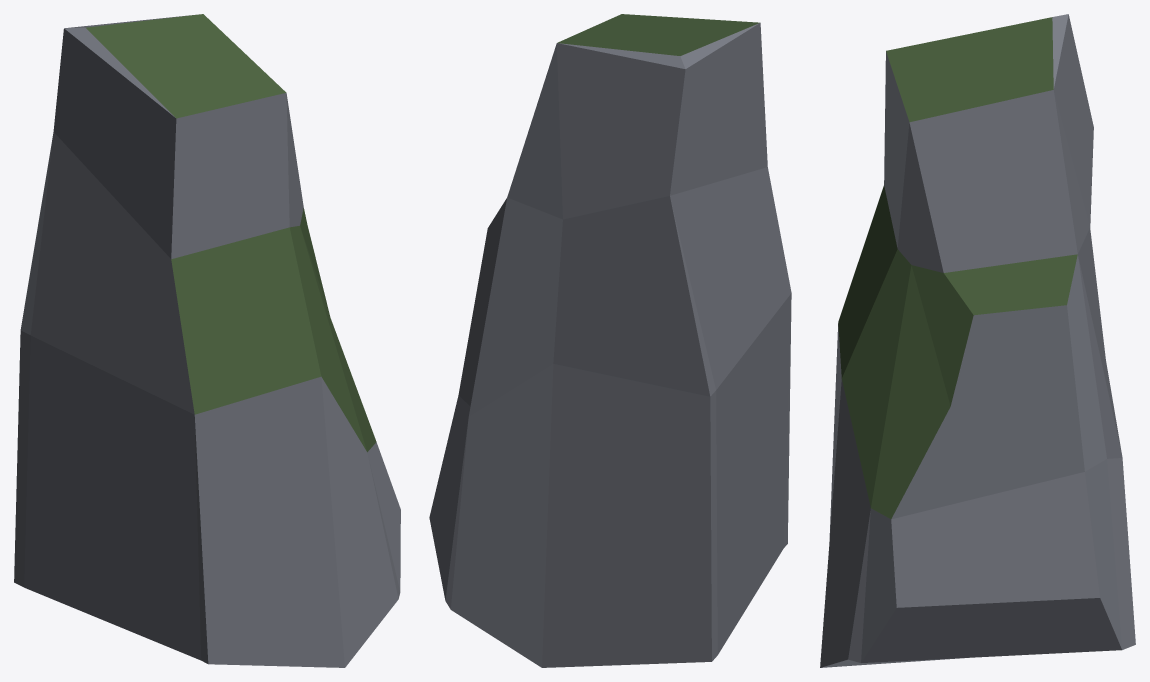
Rendered from Rock_Moss_1.gltf.
3 renders of one model, left to right at view 1: azimuth 30°, elevation 25°; view 2: azimuth 150°, elevation 25°; view 3: azimuth 270°, elevation 25°, orthographic. The views are drawn at different scales.
Visible parts, largest first — view 1: Rock_Moss_1; view 2: Rock_Moss_1; view 3: Rock_Moss_1.
Part boxes in pixels (x1,y1,x2,y2): Rock_Moss_1: (14, 14, 400, 667); Rock_Moss_1: (429, 14, 791, 667); Rock_Moss_1: (820, 14, 1135, 667).
Bounding box in the file's own units: 0.4853 × 0.95 × 0.4667.
